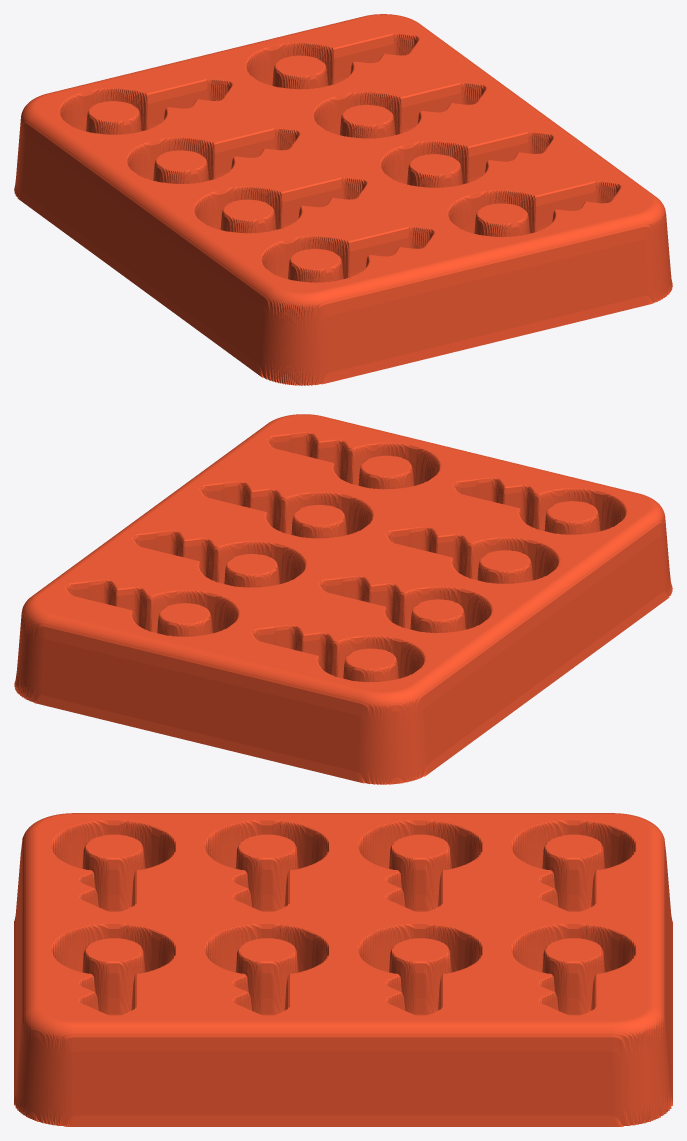
The model's file is mold.glb.
3 views of the same model, one above another, from view 1: azimuth 30°, elevation 25°; view 2: azimuth 150°, elevation 25°; view 3: azimuth 270°, elevation 25° (orthographic). The views are drawn at different scales.
Parts seen in each view (by area): view 1: geometry_0; view 2: geometry_0; view 3: geometry_0.
Boxes of the visible parts, x1=… form: geometry_0: x1=14, y1=14, x2=672, y2=385; geometry_0: x1=14, y1=414, x2=672, y2=784; geometry_0: x1=14, y1=813, x2=672, y2=1126.
Bounding box in the file's own units: 0.0809 × 0.0159 × 0.0994.
